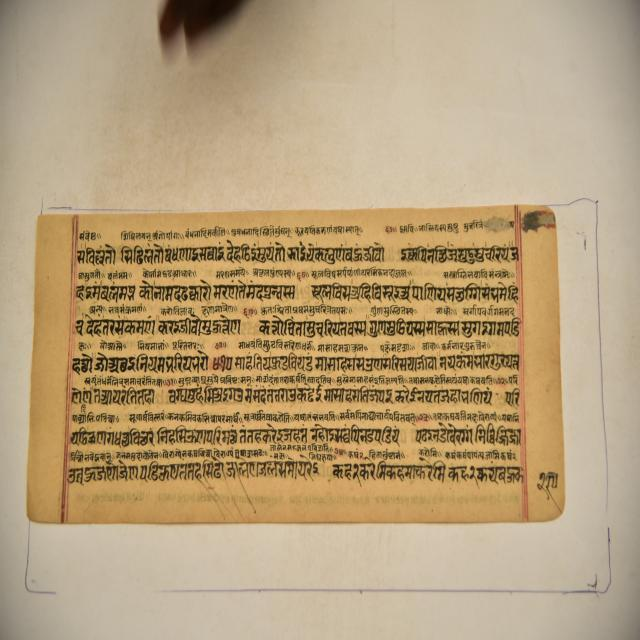text_paragraph: (27, 209, 563, 519)
